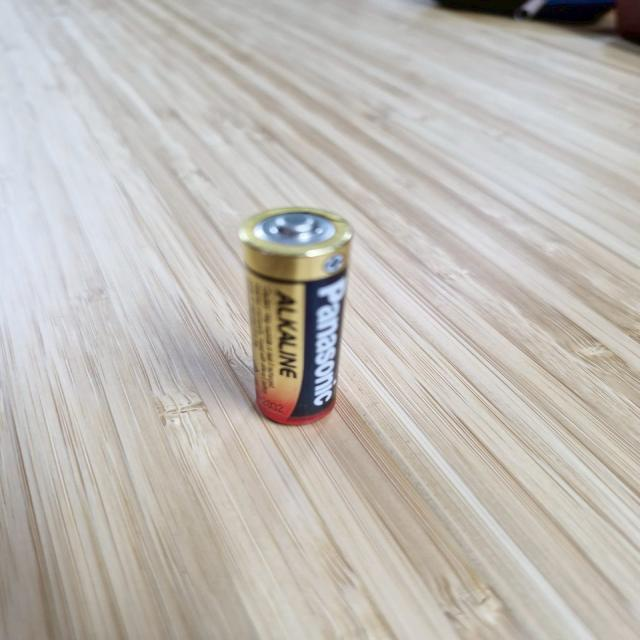battery: (235, 202, 349, 423)
